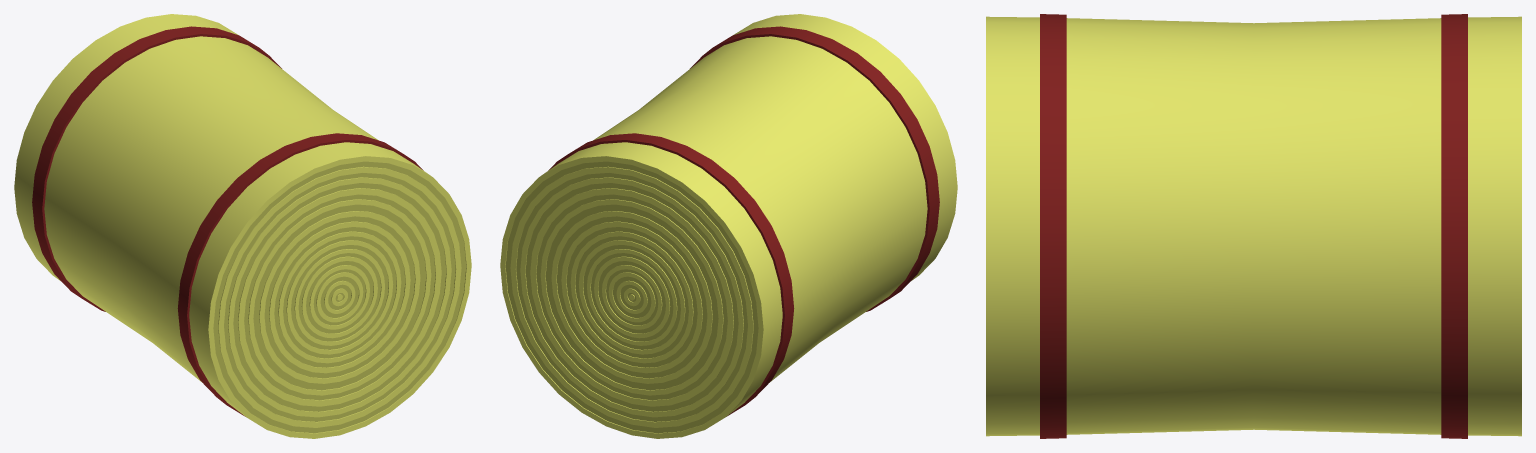
File: HayBale.fbx
3 views of the same model, side by side, from view 1: azimuth 30°, elevation 25°; view 2: azimuth 150°, elevation 25°; view 3: azimuth 270°, elevation 25° (orthographic). The views are drawn at different scales.
Visible parts, largest first — view 1: HayBale; view 2: HayBale; view 3: HayBale.
Part boxes in pixels (x1,y1,x2,y2): HayBale: (14,14,471,438); HayBale: (500,14,957,438); HayBale: (986,14,1521,438).
Size of the model in its own units: 35.22 by 35.22 by 44.37.
